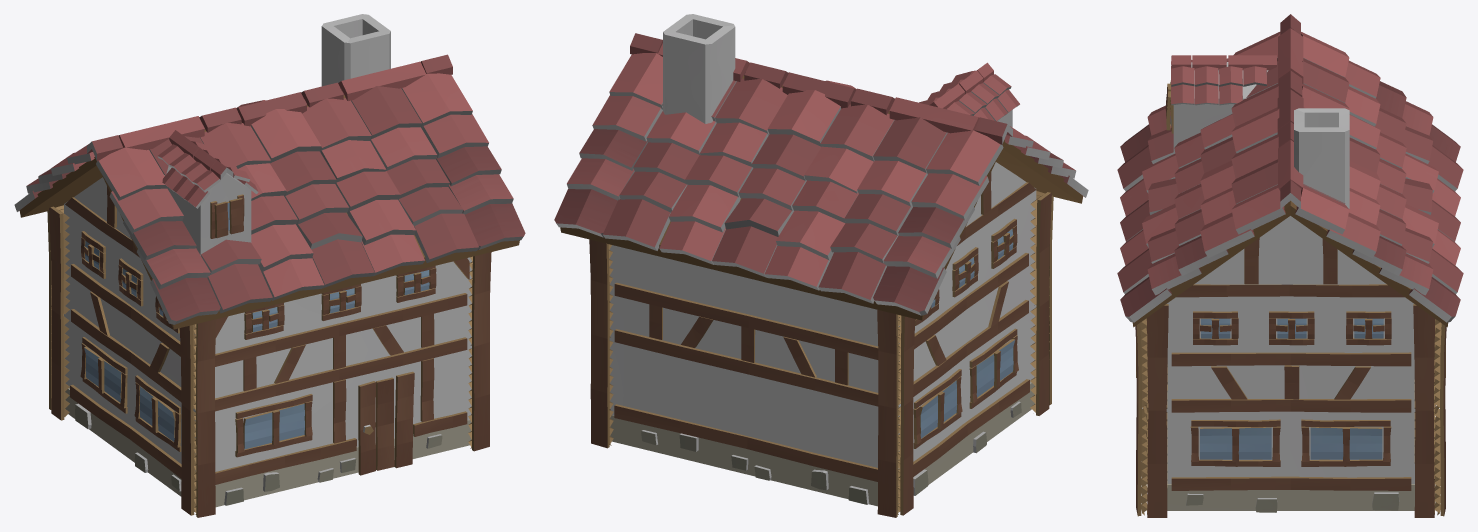
Rendered from paper house 1.fbx.
3 views of the same model, side by side, from view 1: azimuth 30°, elevation 25°; view 2: azimuth 150°, elevation 25°; view 3: azimuth 270°, elevation 25° (orthographic). The views are drawn at different scales.
Visible parts, largest first — view 1: Cube.026, Cube.037, Cube.201, Cube.036, Cube.154, Cube.139, Cube.137, Cube.138, Cube.156, Cube.150, Cube.231, Cube.144 (+43 smaller); view 2: Cube.026, Cube.037, Cube.201, Cube.231, Cube.036, Cube.154, Cube.156, Cube.139, Cube.138, Cube.137, Cube.150, Cube.144 (+33 smaller); view 3: Cube.026, Cube.036, Cube.154, Cube.231, Cube.196, Cube.201, Cube.138, Cube.150, Cube.136, Cube.139, Cube.142, Cube.134 (+45 smaller).
Part boxes in pixels (left/top/right/bottom): Cube.026: left=64, top=177, right=471, bottom=471; Cube.037: left=47, top=210, right=491, bottom=517; Cube.201: left=65, top=388, right=471, bottom=507; Cube.036: left=49, top=206, right=194, bottom=515; Cube.154: left=67, top=73, right=472, bottom=200; Cube.139: left=207, top=213, right=479, bottom=313; Cube.137: left=19, top=95, right=519, bottom=329; Cube.138: left=14, top=190, right=525, bottom=324; Cube.156: left=200, top=98, right=371, bottom=168; Cube.150: left=51, top=114, right=488, bottom=234; Cube.231: left=321, top=14, right=390, bottom=86; Cube.144: left=251, top=199, right=415, bottom=271; Cube.026: left=609, top=162, right=1036, bottom=468; Cube.037: left=589, top=195, right=1053, bottom=517; Cube.201: left=610, top=382, right=1034, bottom=506; Cube.231: left=663, top=14, right=735, bottom=123; Cube.036: left=900, top=192, right=1051, bottom=515; Cube.154: left=609, top=53, right=1033, bottom=185; Cube.156: left=715, top=72, right=894, bottom=161; Cube.139: left=602, top=199, right=886, bottom=303; Cube.138: left=554, top=175, right=1088, bottom=315; Cube.137: left=560, top=75, right=1083, bottom=320; Cube.150: left=592, top=95, right=1050, bottom=220; Cube.144: left=668, top=184, right=845, bottom=260; Cube.026: left=1166, top=216, right=1415, bottom=483; Cube.036: left=1147, top=304, right=1435, bottom=517; Cube.154: left=1231, top=32, right=1349, bottom=234; Cube.231: left=1294, top=108, right=1349, bottom=208; Cube.196: left=1200, top=427, right=1382, bottom=459; Cube.201: left=1167, top=484, right=1414, bottom=510; Cube.138: left=1120, top=124, right=1460, bottom=322; Cube.150: left=1200, top=60, right=1380, bottom=257; Cube.136: left=1171, top=352, right=1411, bottom=366; Cube.139: left=1117, top=145, right=1463, bottom=293; Cube.142: left=1147, top=101, right=1433, bottom=295; Cube.134: left=1171, top=476, right=1411, bottom=490.
Bounding box in the file's own units: 905 × 885 × 741.
